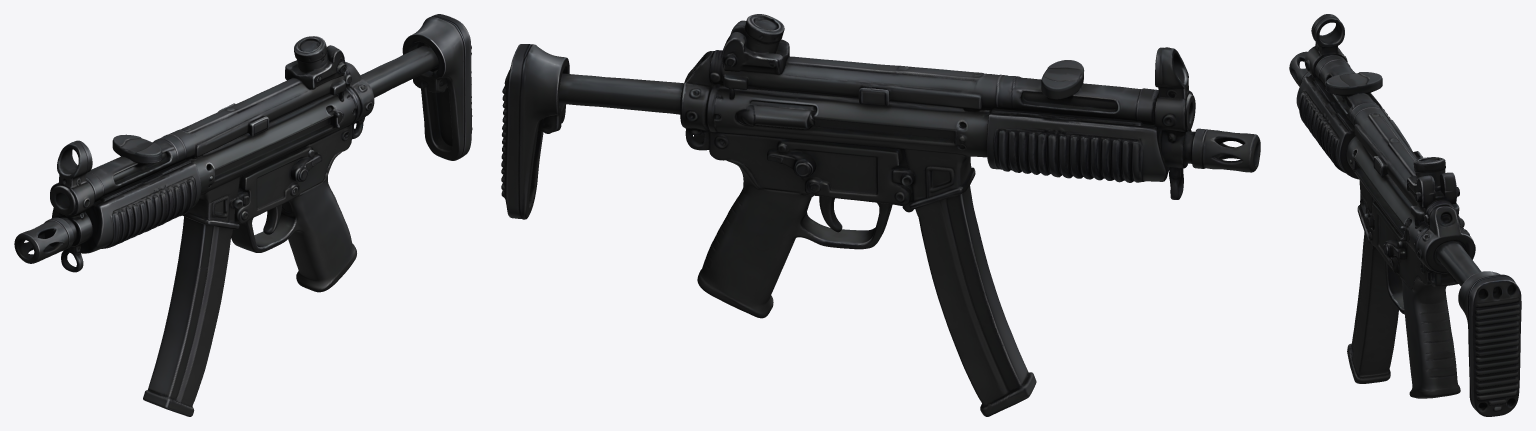
The model's file is smg_hd_backup.glb.
The picture shows the model from 3 angles, left to right: view 1: azimuth 30°, elevation 25°; view 2: azimuth 150°, elevation 25°; view 3: azimuth 270°, elevation 25°; orthographic projection. The views are drawn at different scales.
Visible parts, largest first — view 1: tripo_node_aa39740d-3f5f-478f-b128-57674243b944; view 2: tripo_node_aa39740d-3f5f-478f-b128-57674243b944; view 3: tripo_node_aa39740d-3f5f-478f-b128-57674243b944.
Boxes of the visible parts, <box> form: tripo_node_aa39740d-3f5f-478f-b128-57674243b944: <box>14,14,472,416</box>; tripo_node_aa39740d-3f5f-478f-b128-57674243b944: <box>501,14,1260,416</box>; tripo_node_aa39740d-3f5f-478f-b128-57674243b944: <box>1289,14,1521,416</box>.
Bounding box in the file's own units: 1 × 0.561 × 0.3836.
1 material, 1 textured.
